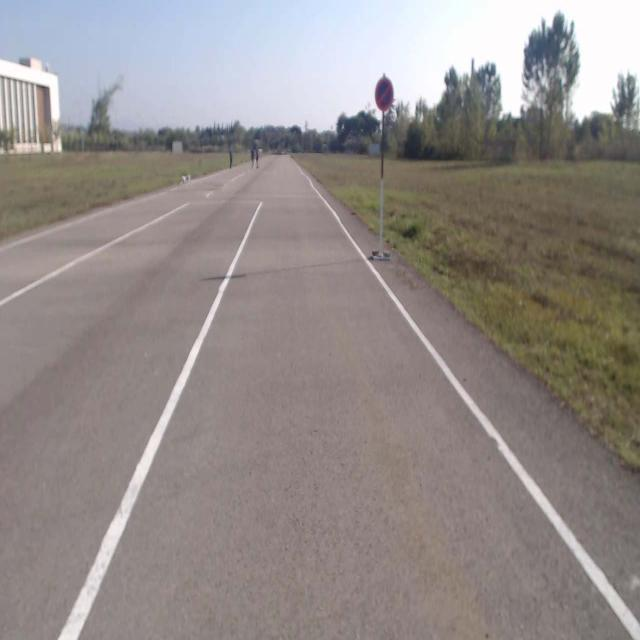parkyasak: (375, 77, 393, 111)
